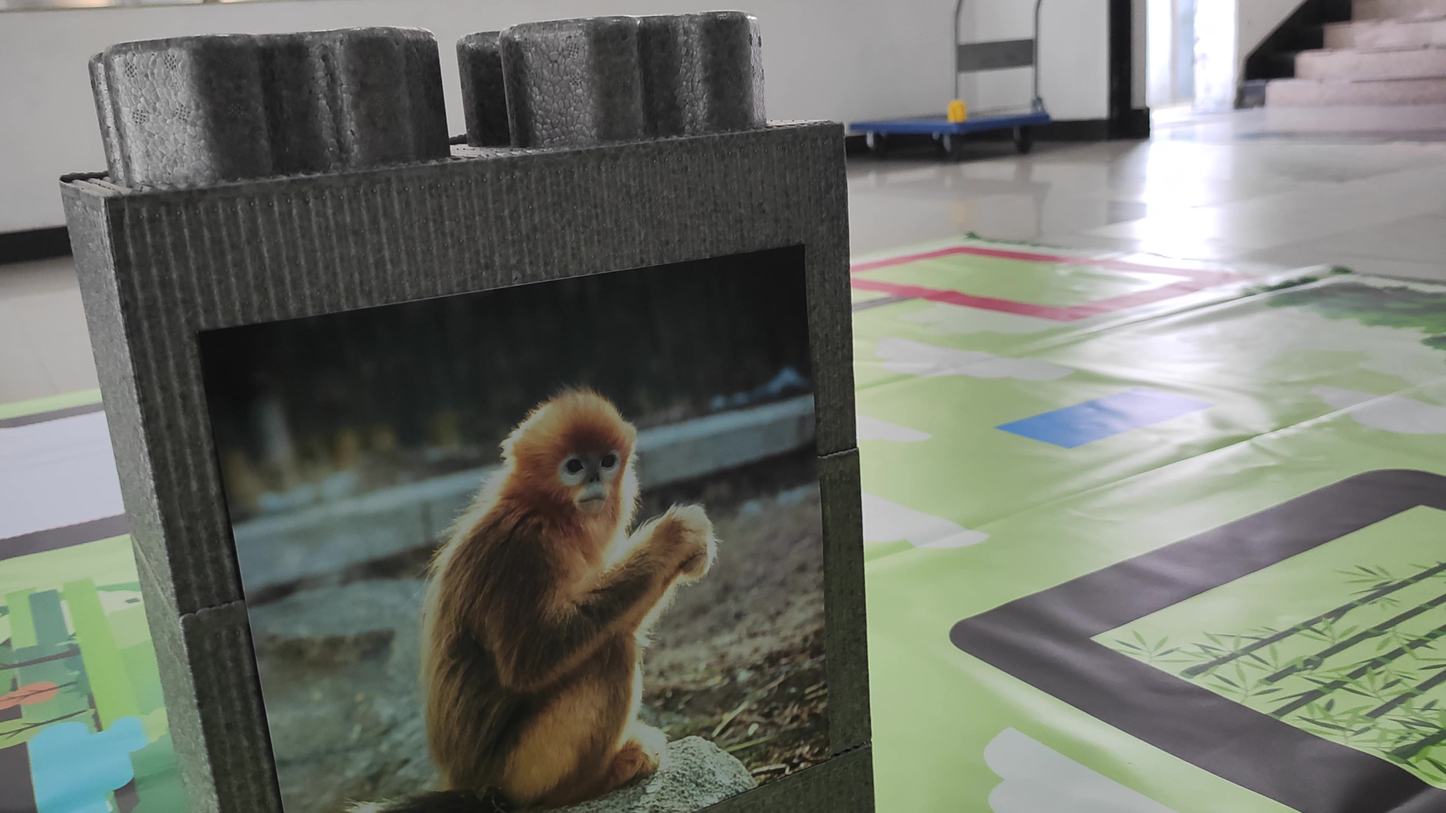monkey: (309, 370, 765, 789)
